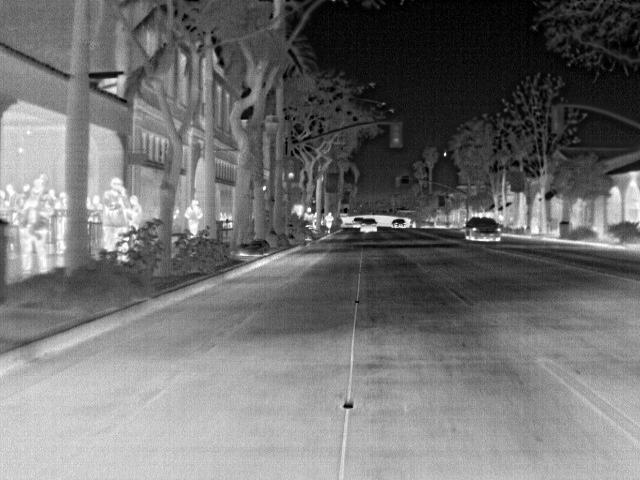car: (462, 214, 502, 244), (356, 218, 382, 232), (391, 218, 408, 230)
person: (16, 178, 54, 278), (99, 177, 130, 253), (184, 197, 205, 238), (127, 192, 144, 230), (45, 188, 61, 211), (4, 180, 17, 206), (322, 211, 337, 232)
